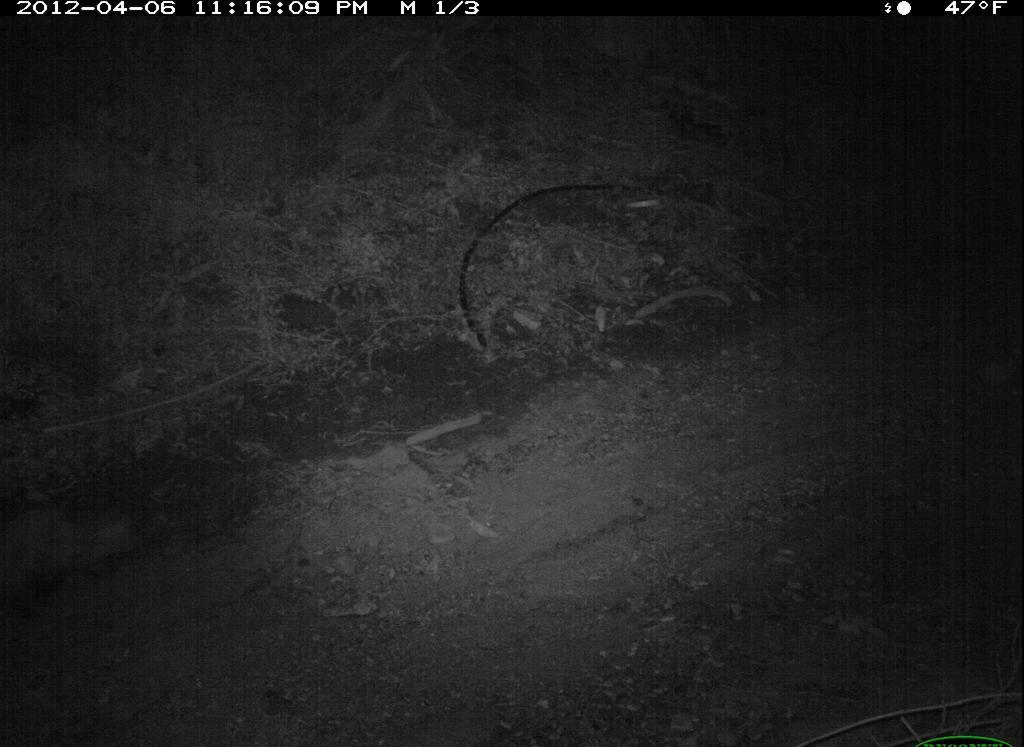opossum: (8, 475, 159, 621)
